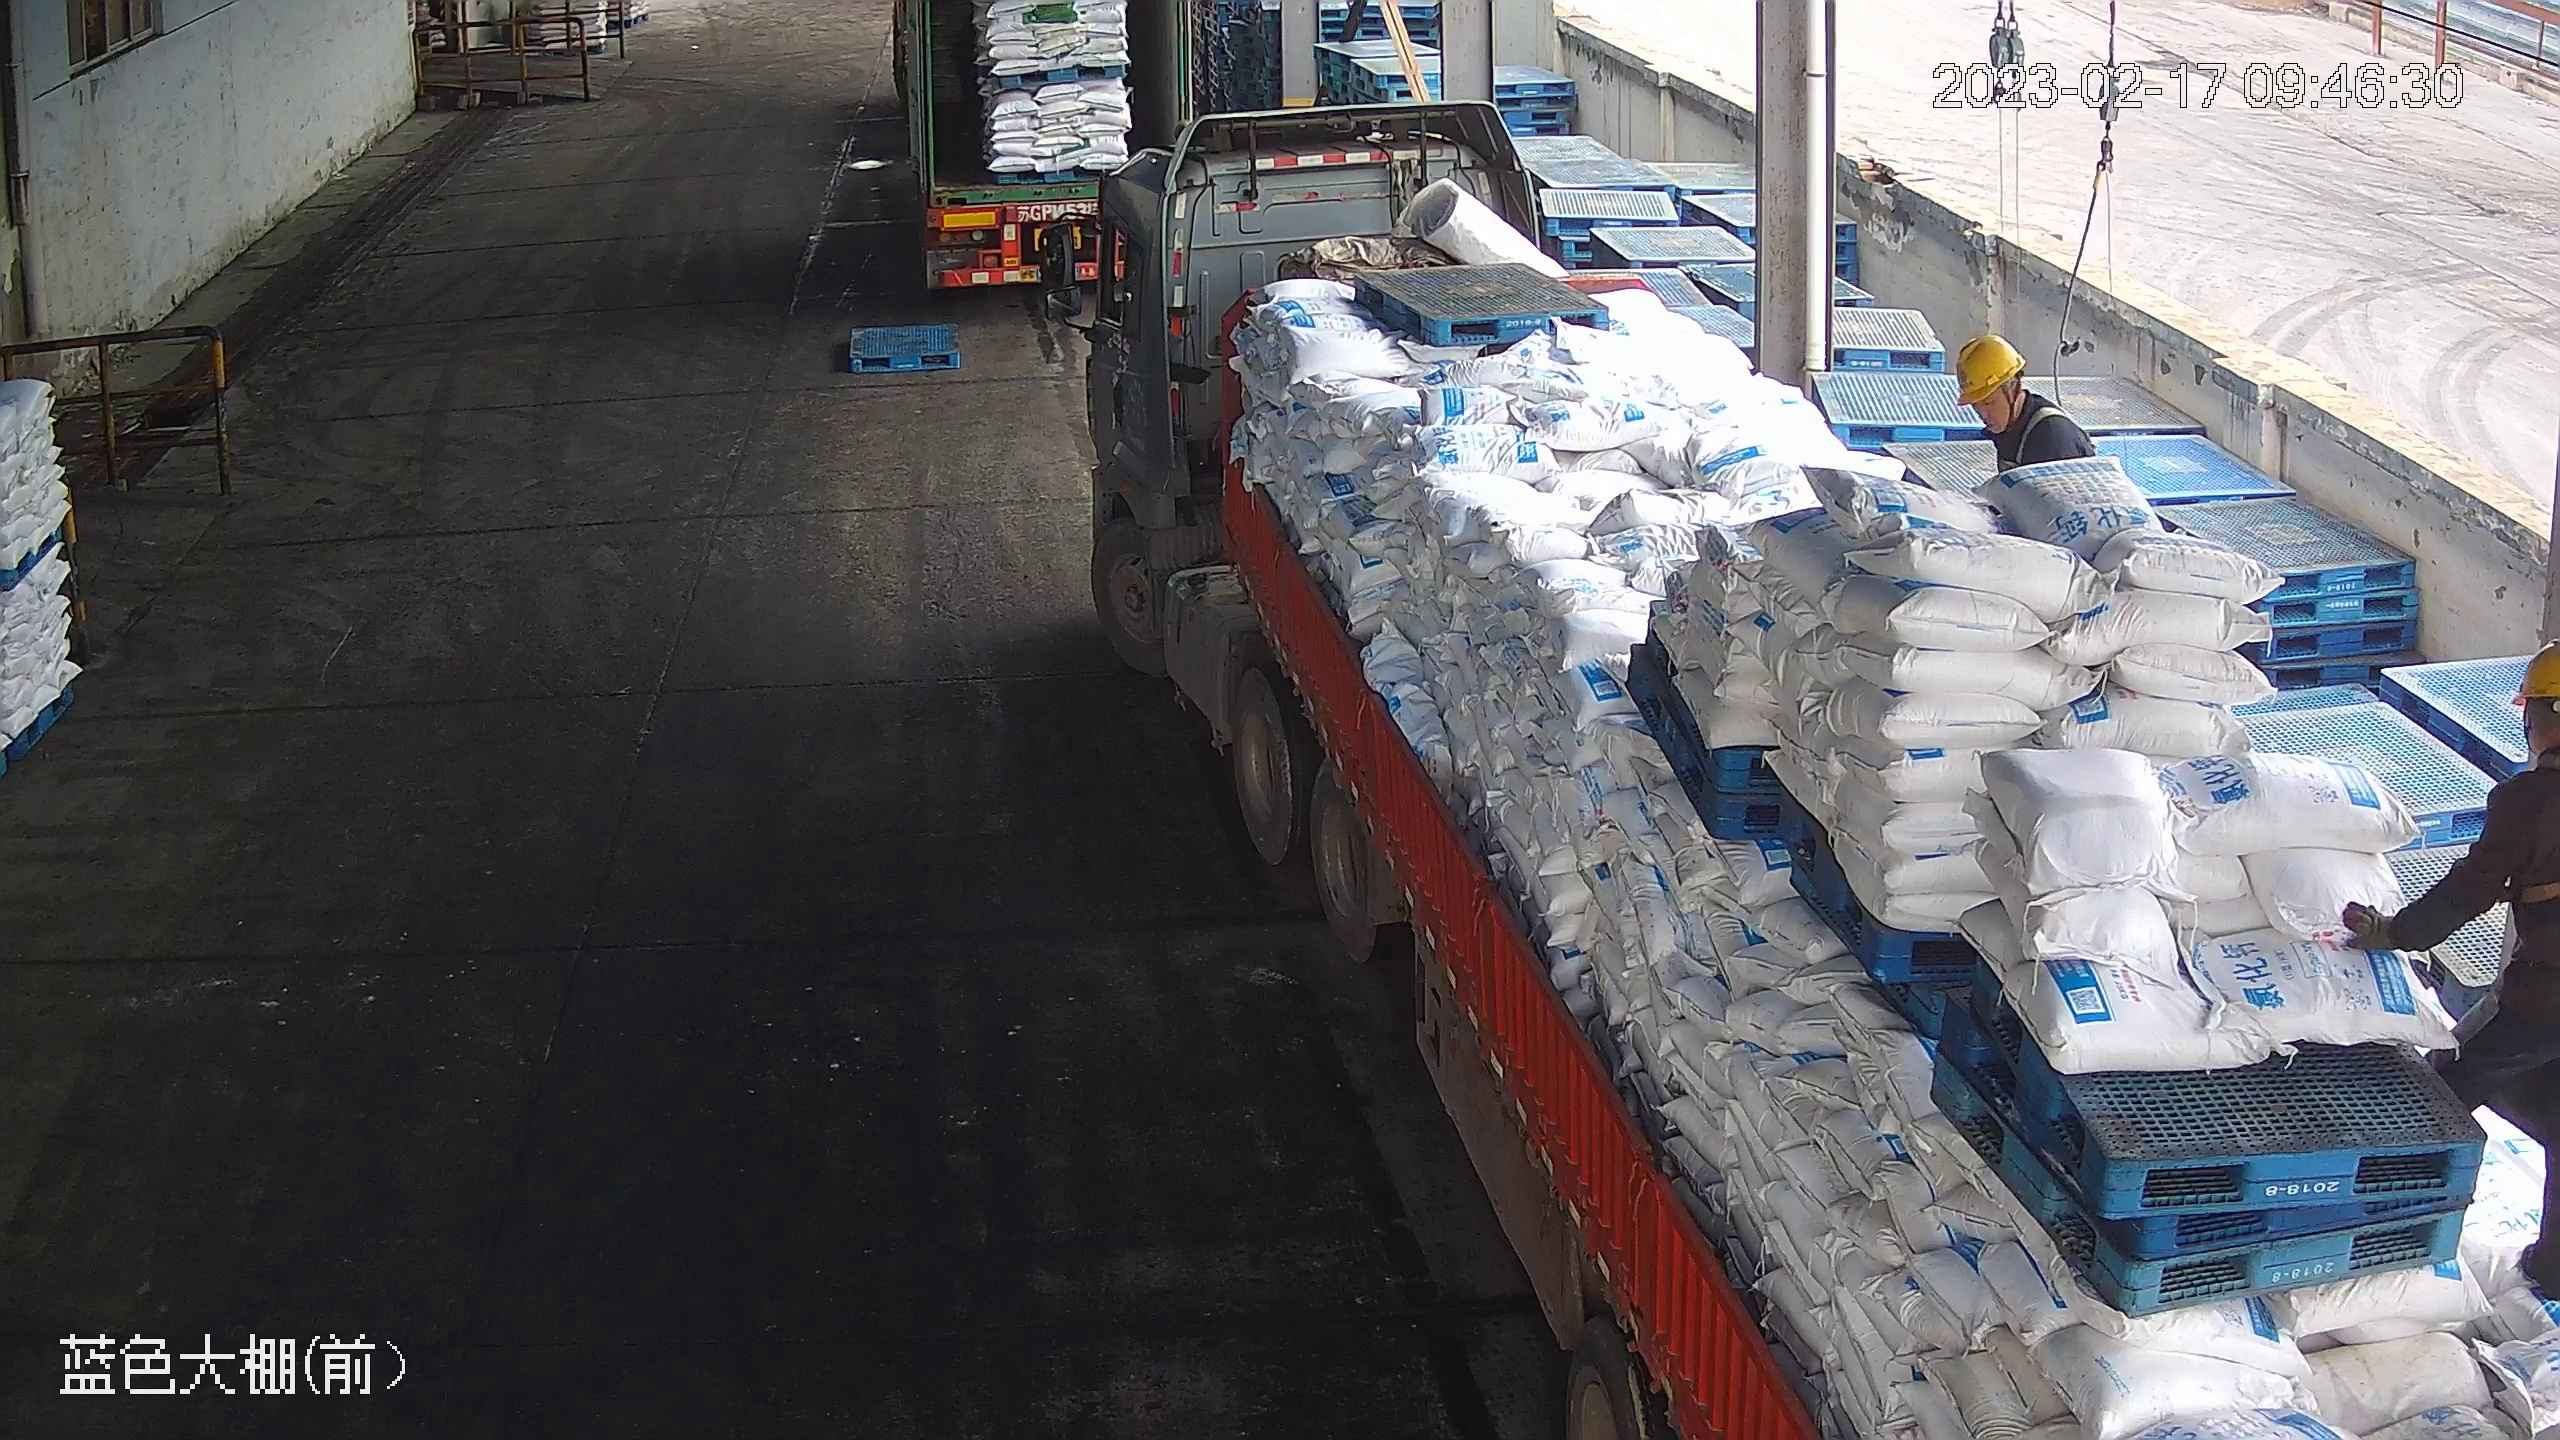belt: (2011, 398, 2067, 465), (2514, 858, 2560, 927)
head: (1952, 333, 2090, 464)
helmet: (1950, 332, 2022, 399)
truck: (1066, 106, 2555, 1440), (861, 1, 1212, 286)
